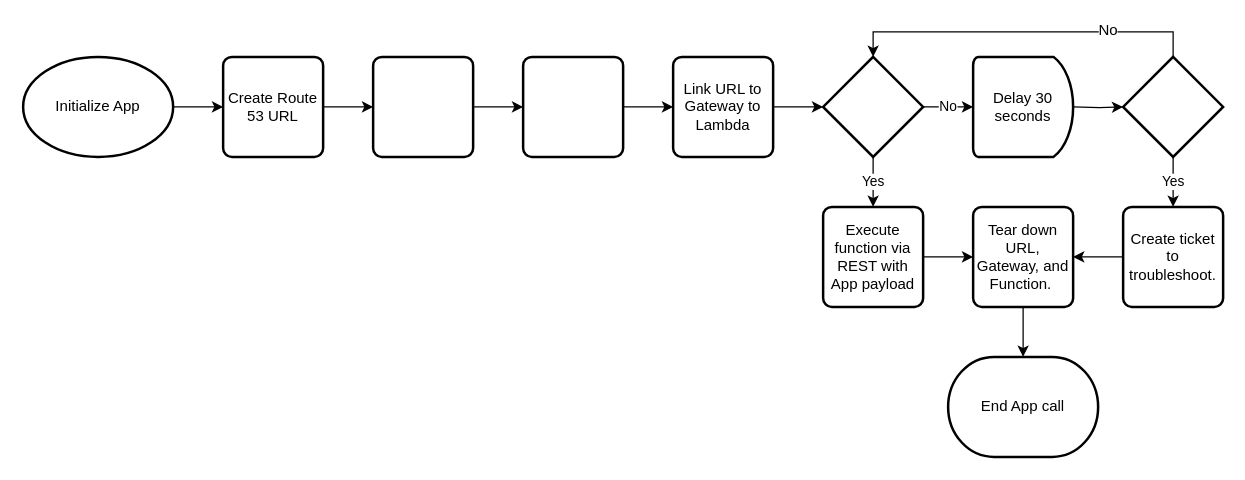
This 1245x480 diagram has some shape labels left out. The centre of each missing label's shape, as x and y in pixels:
4th Attempt?: the point at 1172,106
Create Api Gateway: the point at 572,106
Create Lambda Function: the point at 422,106
URL test passes?: the point at 872,106
